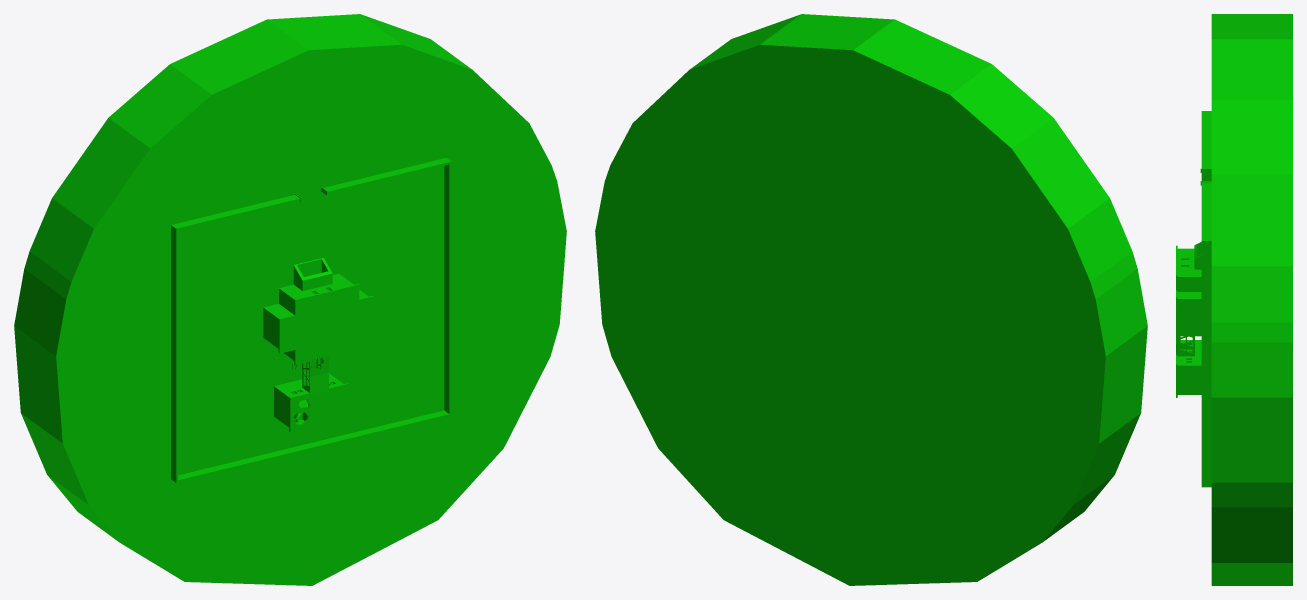
The model's file is lab_0002_dec.obj.
The picture shows the model from 3 angles, left to right: view 1: azimuth 30°, elevation 25°; view 2: azimuth 150°, elevation 25°; view 3: azimuth 270°, elevation 25°; orthographic projection. The views are drawn at different scales.
Visible parts, largest first — view 1: RENDER.004_Cube.031; view 2: RENDER.004_Cube.031; view 3: RENDER.004_Cube.031.
Part boxes in pixels (left/top/right/bottom): RENDER.004_Cube.031: left=14, top=14, right=566, bottom=585; RENDER.004_Cube.031: left=595, top=14, right=1147, bottom=585; RENDER.004_Cube.031: left=1176, top=14, right=1292, bottom=585.
Size of the model in its own units: 2893 by 2905 by 592.
